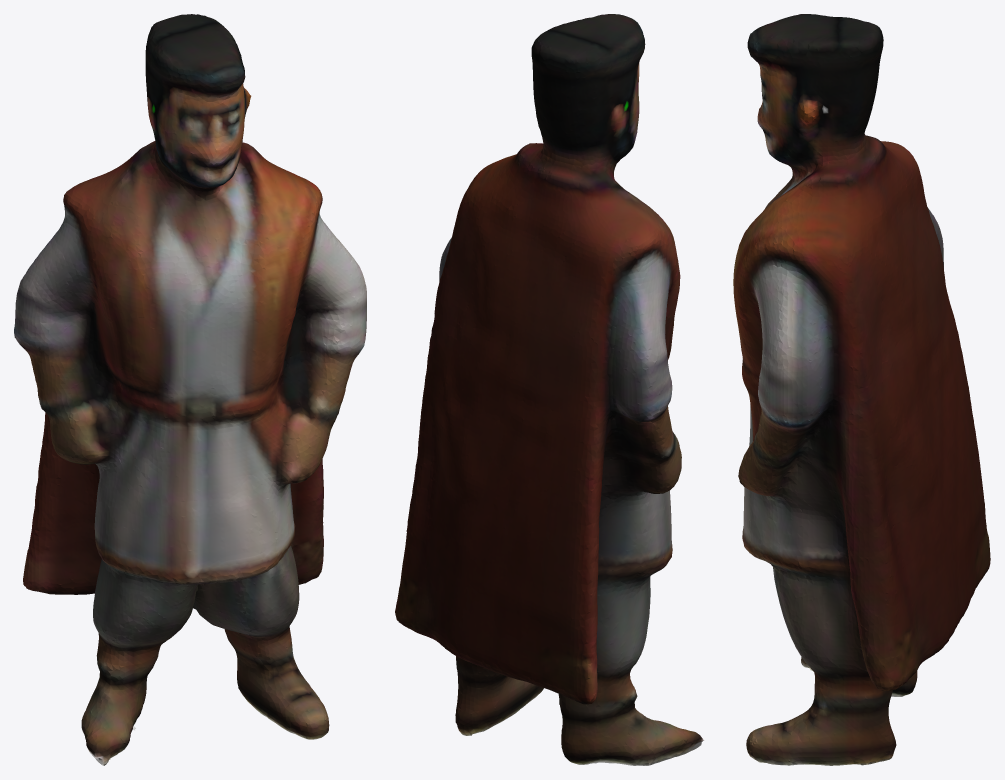
Rendered from mesh_with_colors.obj.
3 views of the same model, side by side, from view 1: azimuth 30°, elevation 25°; view 2: azimuth 150°, elevation 25°; view 3: azimuth 270°, elevation 25° (orthographic).
Size of the model in its own units: 0.4444 by 1.05 by 0.3527.
